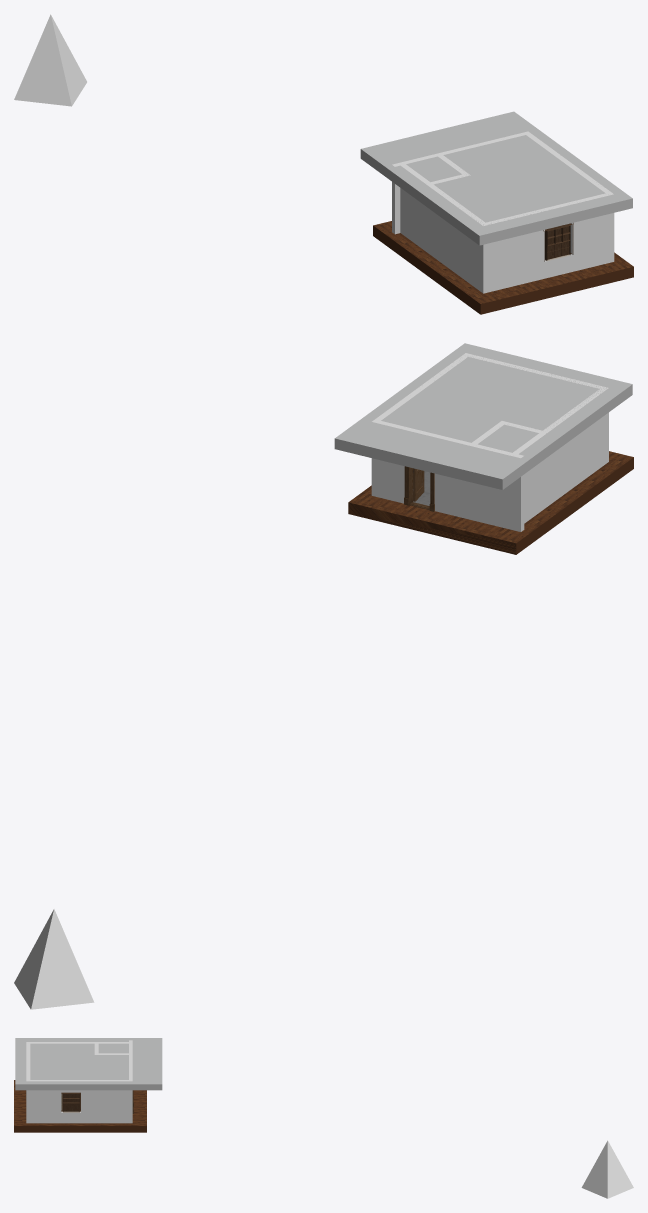
Rendered from SM_Playersroom.fbx.
3 renders of one model, top to bottom at view 1: azimuth 30°, elevation 25°; view 2: azimuth 150°, elevation 25°; view 3: azimuth 270°, elevation 25°, orthographic. The views are drawn at different scales.
Parts seen in each view (by area): view 1: floor2_roof.001, floor2_basestructure.001, Middle_floorandroof.002, SM_referemcepoint, SM_window_large.008; view 2: floor2_roof.001, floor2_basestructure.001, Middle_floorandroof.002, SM_referemcepoint; view 3: floor2_roof.001, floor2_basestructure.001, Middle_floorandroof.002, SM_referemcepoint, SM_window_large.007.
Part boxes in pixels (x1=…): floor2_roof.001: x1=360, y1=111, x2=632, y2=245; floor2_basestructure.001: x1=392, y1=131, x2=614, y2=293; Middle_floorandroof.002: x1=373, y1=221, x2=633, y2=314; SM_referemcepoint: x1=14, y1=14, x2=86, y2=106; SM_window_large.008: x1=543, y1=223, x2=573, y2=261; floor2_roof.001: x1=334, y1=343, x2=632, y2=489; floor2_basestructure.001: x1=371, y1=353, x2=608, y2=531; Middle_floorandroof.002: x1=348, y1=451, x2=633, y2=554; SM_referemcepoint: x1=14, y1=909, x2=94, y2=1009; floor2_roof.001: x1=15, y1=1038, x2=162, y2=1090; floor2_basestructure.001: x1=26, y1=1040, x2=132, y2=1123; Middle_floorandroof.002: x1=14, y1=1080, x2=146, y2=1132; SM_referemcepoint: x1=581, y1=1140, x2=633, y2=1198; SM_window_large.007: x1=61, y1=1092, x2=80, y2=1112.
Bounding box in the file's own units: 717 × 4055 × 972.
10 materials, 9 textured.
